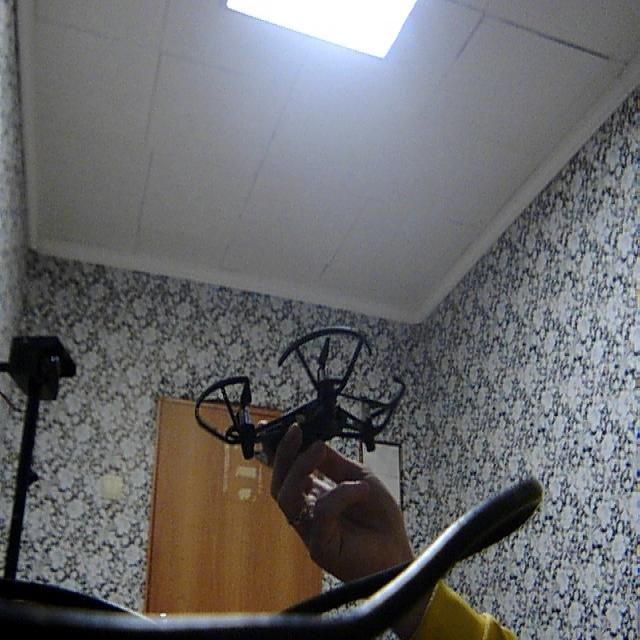drone: (186, 316, 414, 517)
